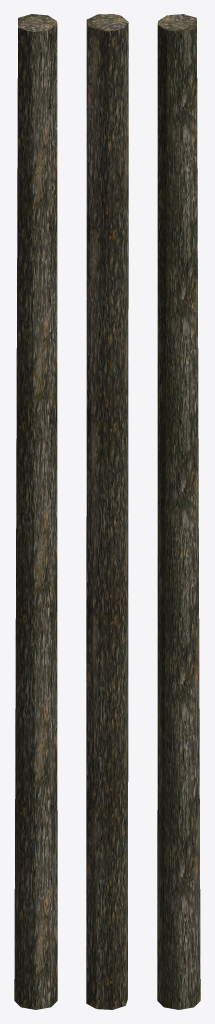
Rendered from tree.obj.
3 views of the same model, side by side, from view 1: azimuth 90°, elevation 25°; view 2: azimuth 150°, elevation 25°; view 3: azimuth 270°, elevation 25° (orthographic).
Visible parts, largest first — view 1: Cylinder; view 2: Cylinder; view 3: Cylinder.
Part boxes in pixels (x1,y1,x2,y2): Cylinder: (14, 14, 57, 1009); Cylinder: (86, 14, 128, 1009); Cylinder: (157, 14, 200, 1009).
Size of the model in its own units: 4 by 100 by 4.
